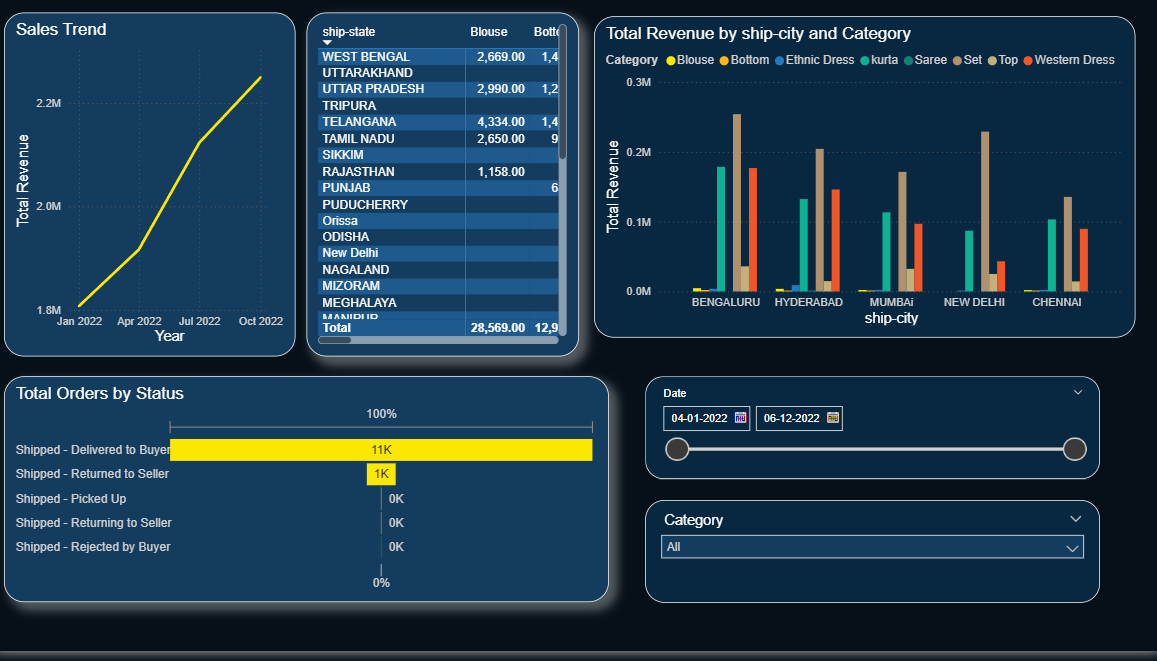

Layout of this report page (visuals, bound fields, positions):
{"tool":"powerbi","page":{"name":"Page 2","canvas":[1280,720],"ordinal":1},"visuals":[{"type":"pivotTable","fields":{"Rows":["Amazon Sale Report.ship-state"],"Columns":["Amazon Sale Report.Category"],"Values":["Amazon Sale Report.Total Revenue"]},"box":[343.1,19.2,299.1,377.4],"z":0},{"type":"lineChart","title":"Sales Trend","fields":{"Category":["Amazon Sale Report.Date.Variation.Date Hierarchy.Year","Amazon Sale Report.Date.Variation.Date Hierarchy.Quarter","Amazon Sale Report.Date.Variation.Date Hierarchy.Month","Amazon Sale Report.Date.Variation.Date Hierarchy.Day"],"Y":["Amazon Sale Report.Total Revenue"]},"box":[11,19.2,319.7,377.4],"z":1000},{"type":"funnel","fields":{"Category":["Amazon Sale Report.Status"],"Y":["Amazon Sale Report.Total Orders"]},"box":[11,418.5,664.2,248.4],"z":2000},{"type":"clusteredColumnChart","fields":{"Category":["Amazon Sale Report.ship-city"],"Y":["Amazon Sale Report.Total Revenue"],"Series":["Amazon Sale Report.Category"]},"box":[658.7,23.3,594.2,352.7],"z":3000},{"type":"slicer","fields":{"Values":["Amazon Sale Report.Category"]},"box":[714.9,554.4,499.5,112.5],"z":4000},{"type":"slicer","fields":{"Values":["Amazon Sale Report.Date"]},"box":[714.9,418.5,499.5,112.5],"z":5000}]}

Visuals, with their boxes in screenshot pixels (x1, y1, x2, y2), scaled from the page's 1280x720 canvas onto the 1157x661 screenshot:
pivotTable - Amazon Sale Report.ship-state x Amazon Sale Report.Category: bbox=(310, 18, 580, 364)
"Sales Trend" lineChart: bbox=(10, 18, 299, 364)
funnel - Amazon Sale Report.Status x Amazon Sale Report.Total Orders: bbox=(10, 384, 610, 612)
clusteredColumnChart - Amazon Sale Report.ship-city x Amazon Sale Report.Total Revenue: bbox=(595, 21, 1133, 345)
slicer - Amazon Sale Report.Category: bbox=(646, 509, 1098, 612)
slicer - Amazon Sale Report.Date: bbox=(646, 384, 1098, 487)
